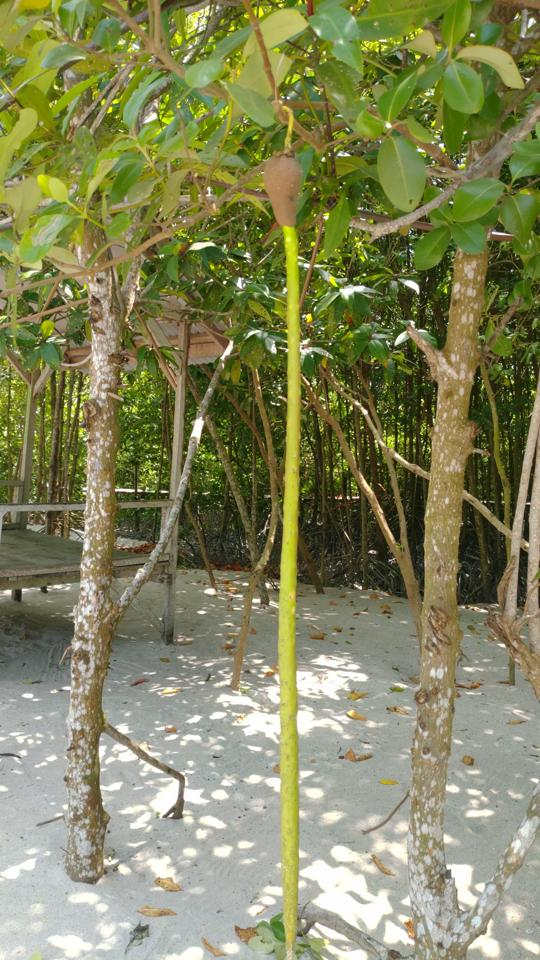mentah: (256, 141, 319, 955)
